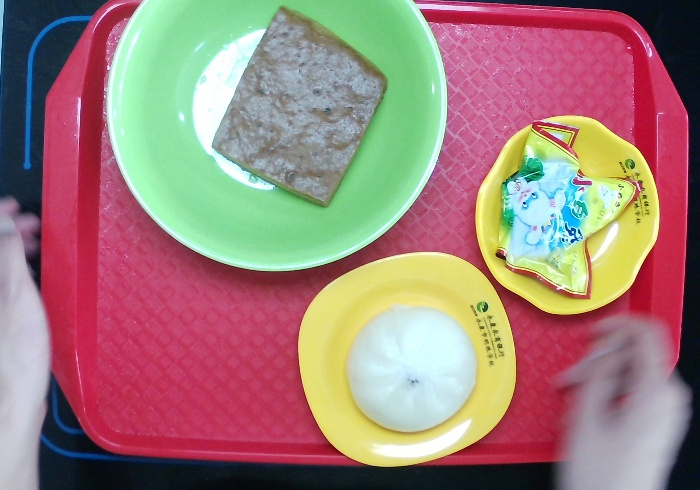YKMZ-Huang_Se_Ao_Bian_Wan: (468, 106, 670, 326)
YKMZ-Huang_Se_Fang_Die: (288, 245, 520, 471)
YKMZ-Lv_Se_Tang_Wan: (97, 1, 458, 277)
